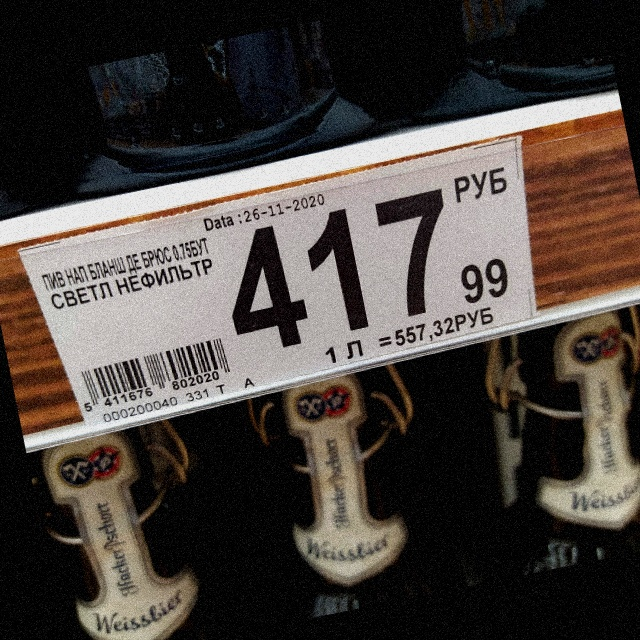barcode: (75, 335, 231, 414)
name: (34, 240, 213, 310)
price: (229, 185, 511, 352)
price_tag: (24, 138, 541, 431)
